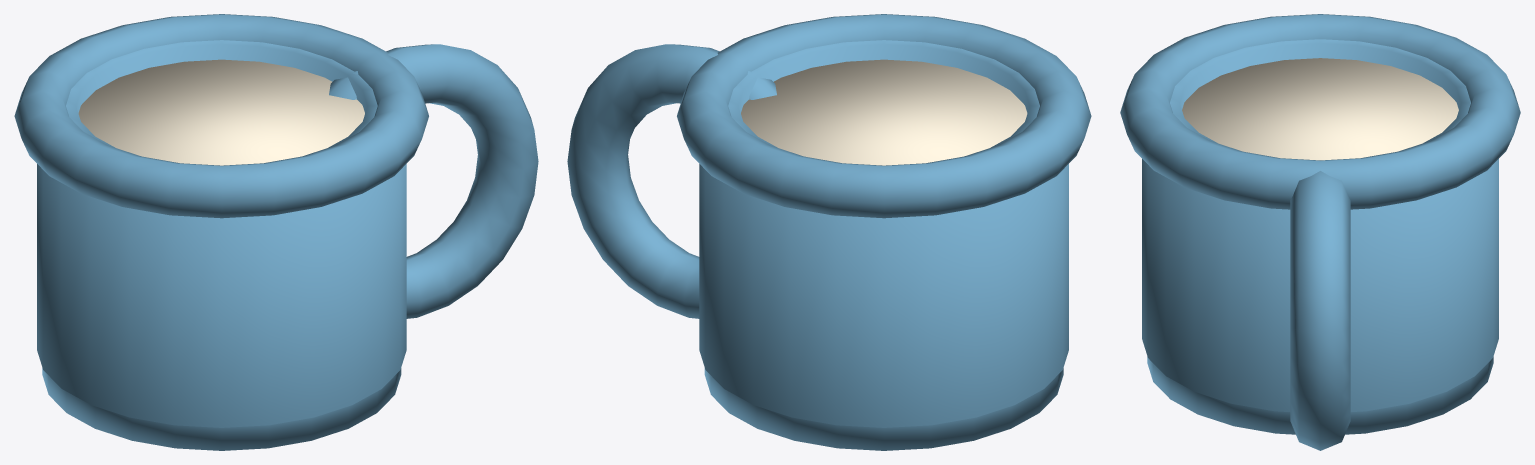
Rendered from word-water.glb.
3 views of the same model, side by side, from view 1: azimuth 30°, elevation 25°; view 2: azimuth 150°, elevation 25°; view 3: azimuth 270°, elevation 25° (orthographic). The views are drawn at different scales.
Parts seen in each view (by area): view 1: hollow cup wall, cup rim, drink surface, cup handle, cup base; view 2: hollow cup wall, cup rim, drink surface, cup handle, cup base; view 3: hollow cup wall, cup rim, drink surface, cup handle, cup base.
Boxes of the visible parts, x1,y1,x2,y2 form: hollow cup wall: [37, 40, 406, 427]; cup rim: [14, 14, 428, 218]; drink surface: [78, 59, 364, 165]; cup handle: [329, 44, 538, 318]; cup base: [42, 368, 401, 450]; hollow cup wall: [699, 40, 1068, 427]; cup rim: [677, 14, 1091, 218]; drink surface: [741, 59, 1027, 165]; cup handle: [567, 44, 776, 318]; cup base: [704, 368, 1063, 450]; hollow cup wall: [1142, 39, 1498, 411]; cup rim: [1120, 14, 1520, 209]; drink surface: [1182, 58, 1458, 160]; cup handle: [1290, 171, 1350, 450]; cup base: [1147, 357, 1493, 434].
Size of the model in its own units: 0.508 by 0.28 by 0.37.
